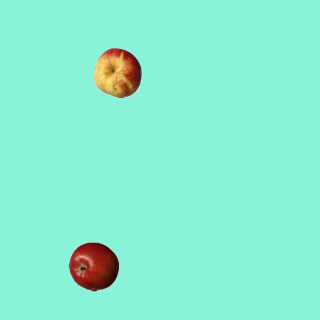Apple Braeburn: (68, 241, 118, 291)
Apple Red Yellow 1: (92, 47, 142, 97)
